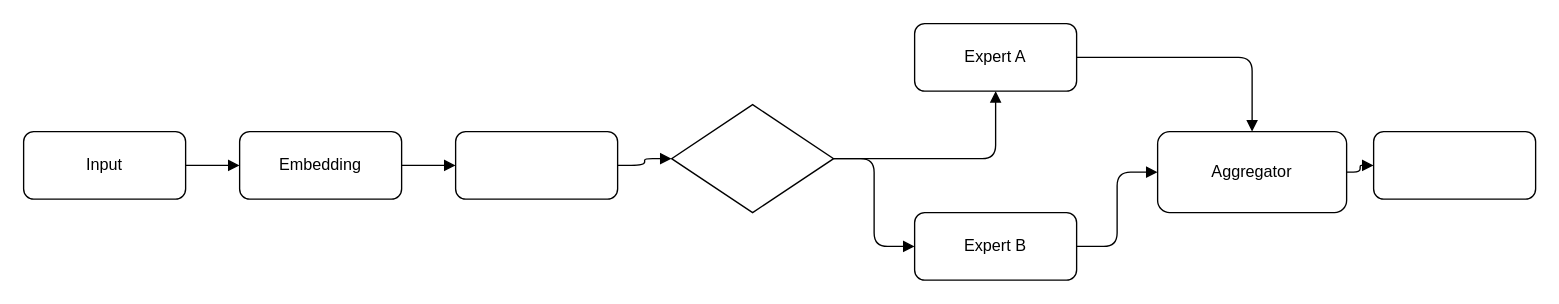
The diagram is 1559 pixels wide and 304 high, and some of its shapes have lost their labels. Each missing label, with the box of its shape:
Attention: (454, 130, 618, 199)
Output: (1372, 130, 1536, 199)
Router: (670, 103, 834, 213)
